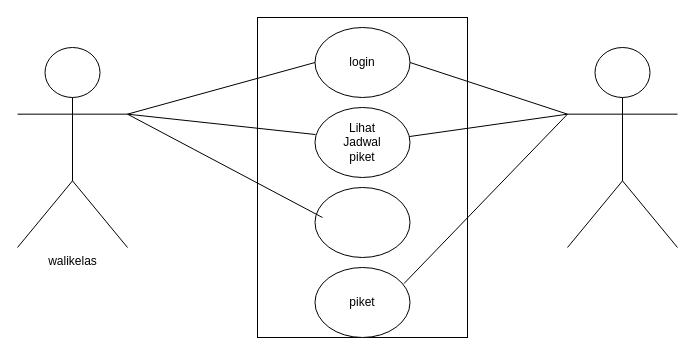
Some shapes in this 695 by 355 pixel diagram are drawn without their labels. Here are the shapes that lost their labels. From the top down, the centre of each, then its label:
At (622,147): "siswa".
At (362,222): "Lihat Riwayat piket".
